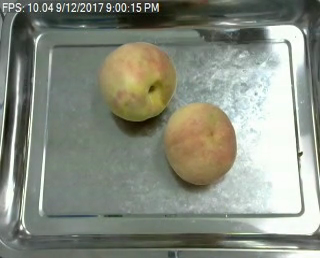Peach: (99, 40, 177, 121), (164, 102, 238, 184)
